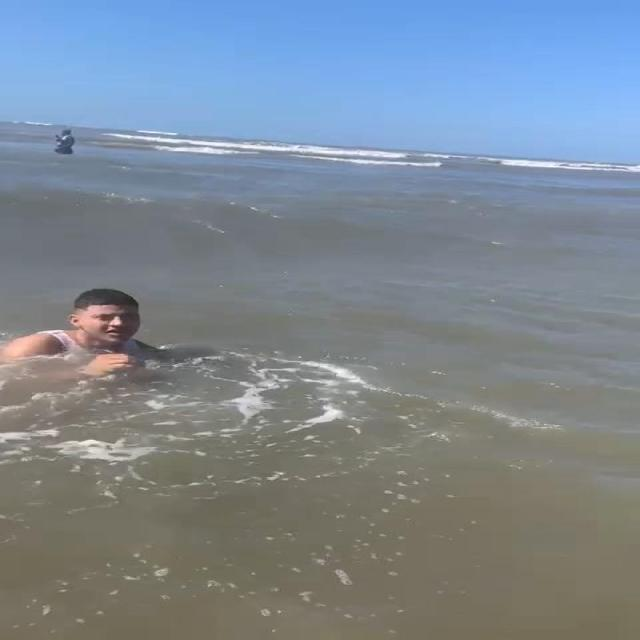Out of Water: (3, 284, 177, 378)
